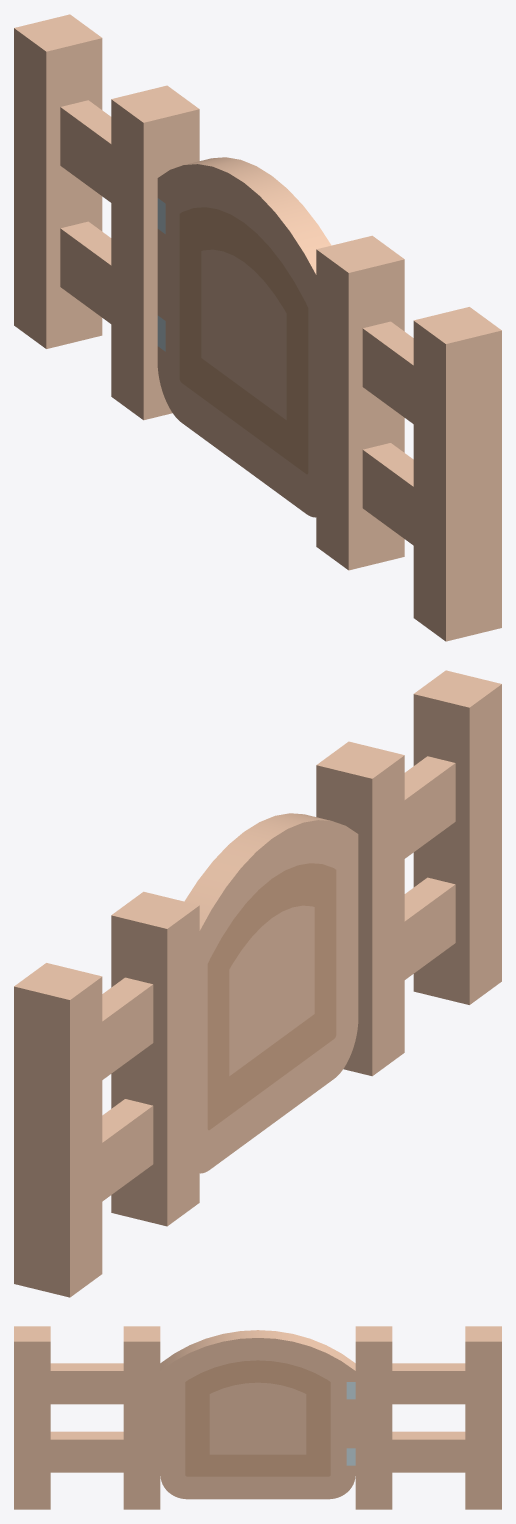
3 renders of one model, top to bottom at view 1: azimuth 30°, elevation 25°; view 2: azimuth 150°, elevation 25°; view 3: azimuth 270°, elevation 25°, orthographic. The views are drawn at different scales.
Parts seen in each view (by area): view 1: fenceGate, gate; view 2: fenceGate, gate; view 3: fenceGate, gate.
Boxes of the visible parts, x1,y1,x2,y2 form: fenceGate: [14, 14, 501, 641]; gate: [157, 157, 331, 517]; fenceGate: [14, 670, 501, 1297]; gate: [184, 813, 358, 1173]; fenceGate: [14, 1326, 501, 1509]; gate: [160, 1330, 355, 1499].
Size of the model in its own units: 0.075 by 0.38 by 1.
